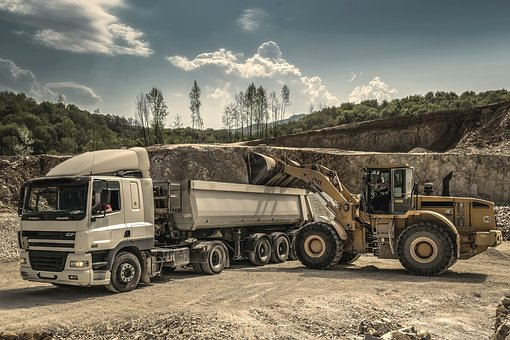excavator: (248, 146, 504, 273)
